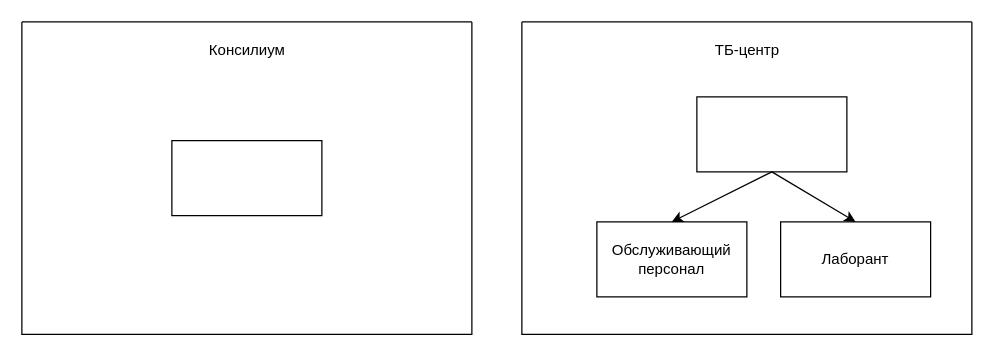
Image size: 994x356. Some labels were removed from this diagram. Each missing label, with the centre of its shape:
Врач-фтизиатр: the point at 771,134
Комиссия: the point at 246,177
